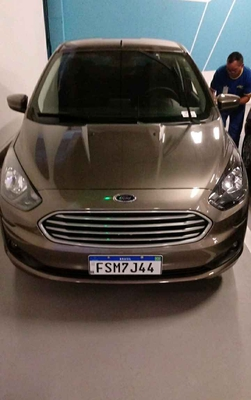Frontal Veiculo: (1, 48, 249, 289)
